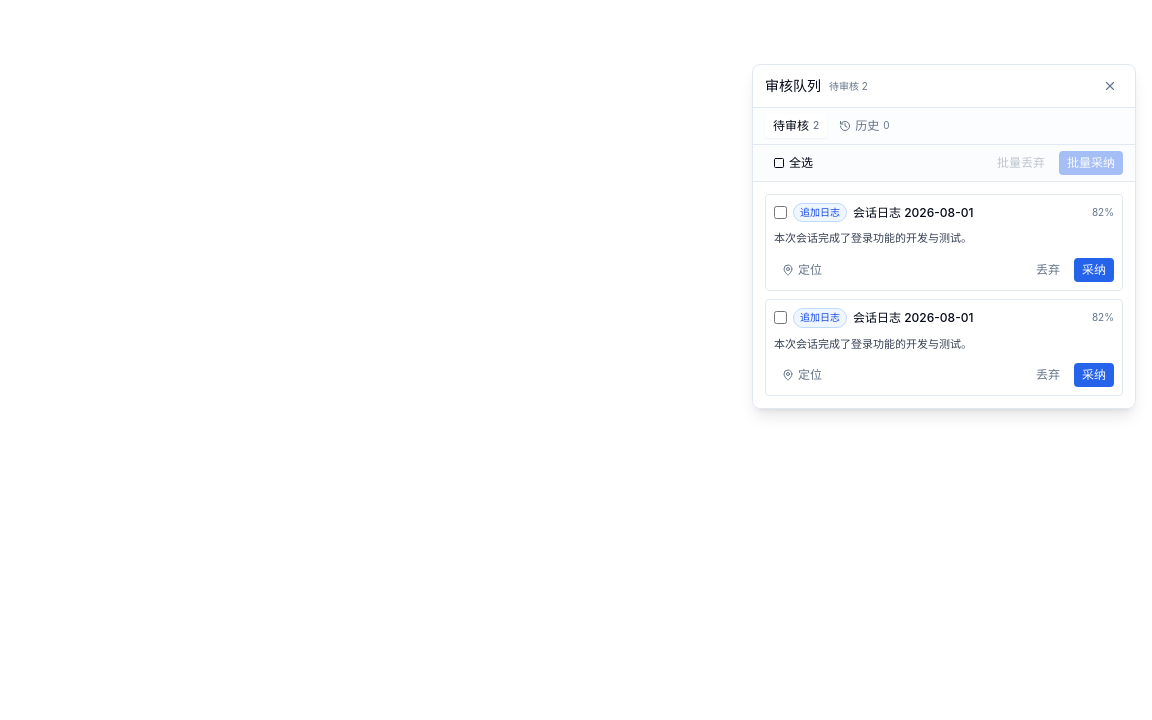
Test: WritebackPanel — batch selection › shows selection count when items selected
The image size is (1152, 720).
Check: the text "已选" is not shown
Click the 1st checkbox named "选择 会话日志 2026-08-01" at (780, 213), box [774,206,787,219]
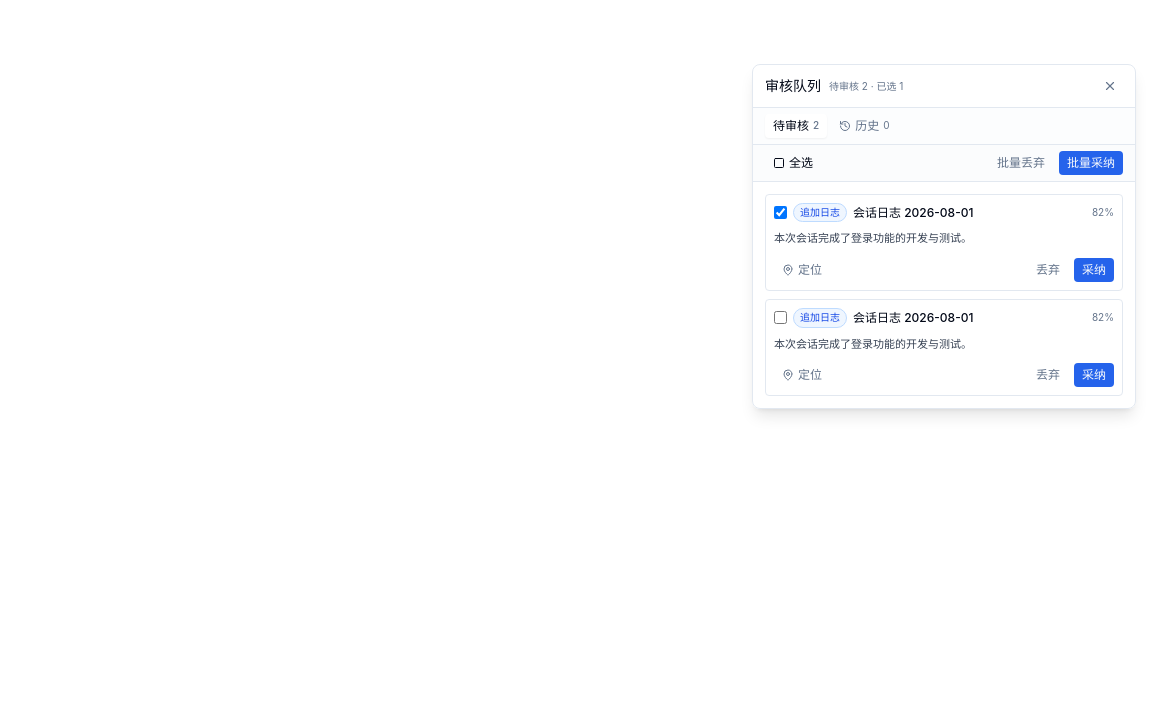
Check: the text "待审核 2 · 已选 1" is shown, box [829,80,903,92]
